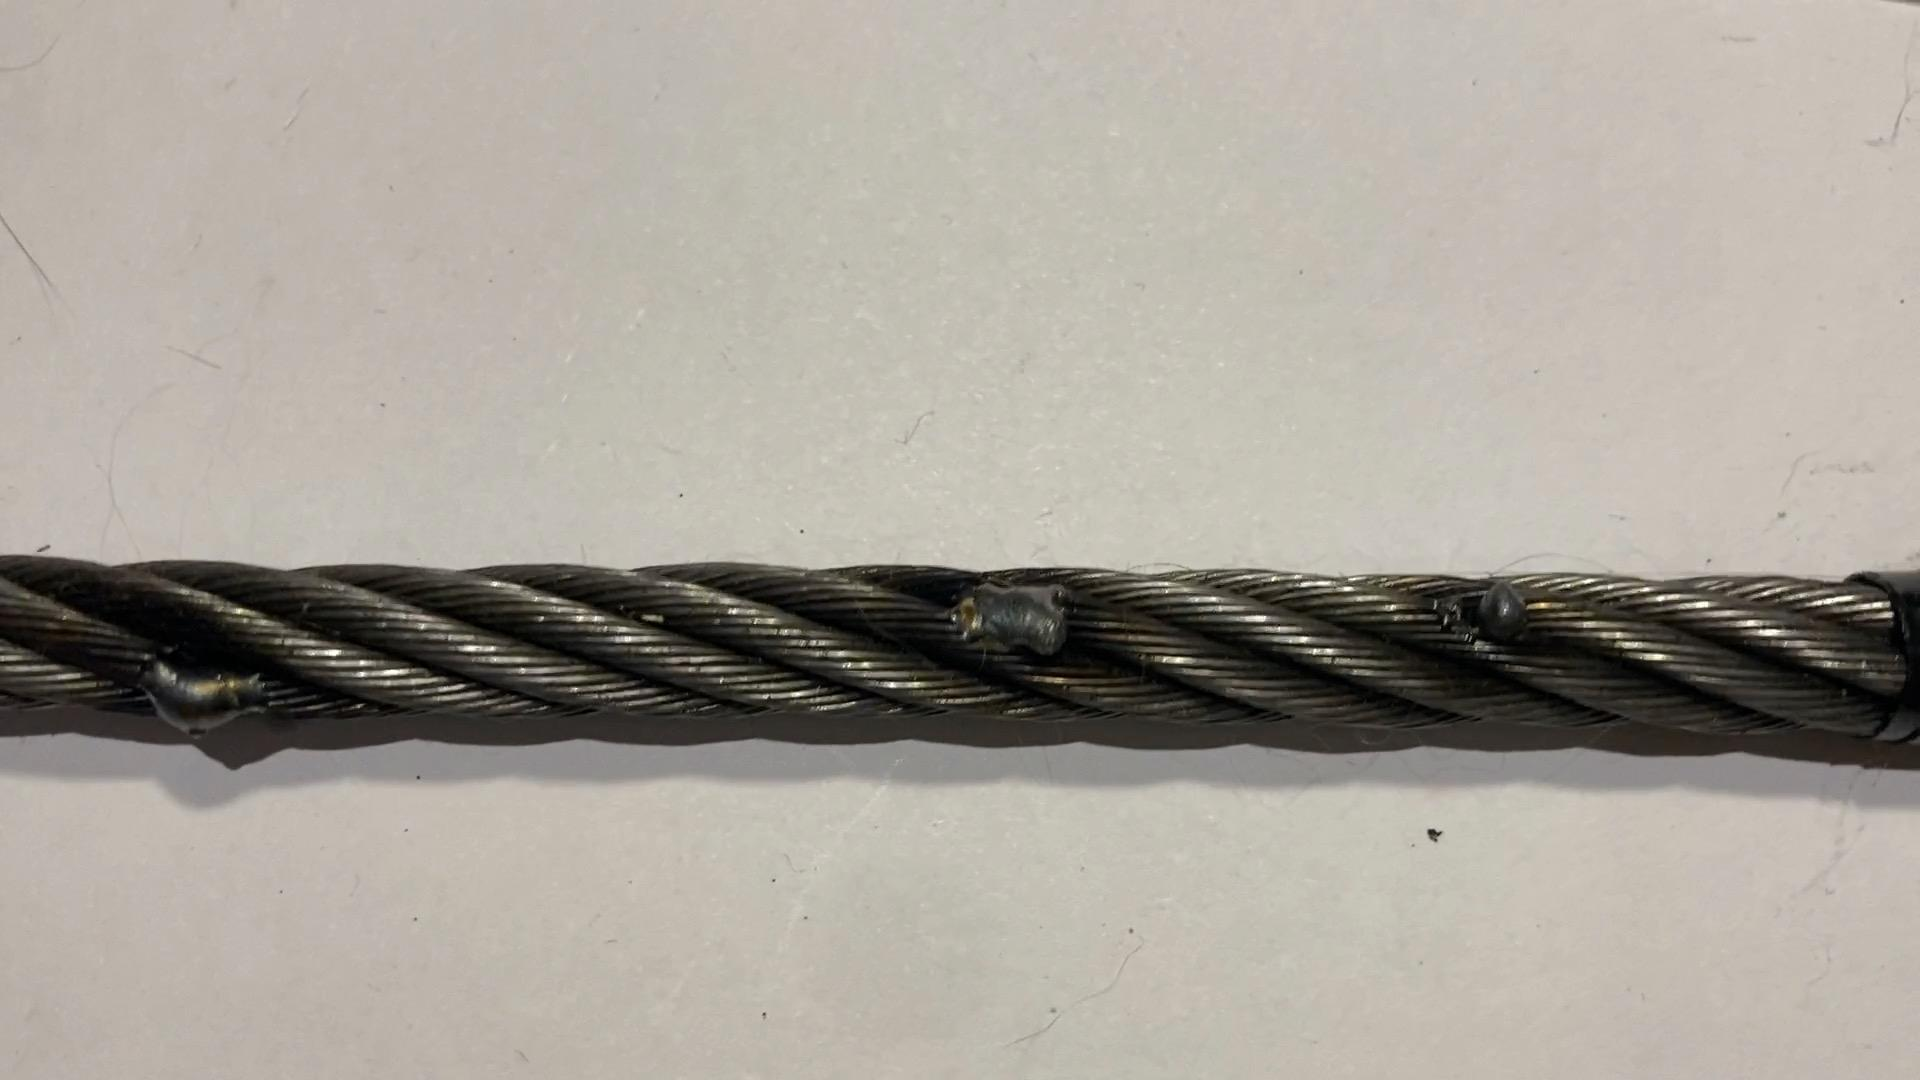thunderbolt: (1425, 553, 1557, 673), (945, 567, 1095, 657), (141, 633, 270, 720)
